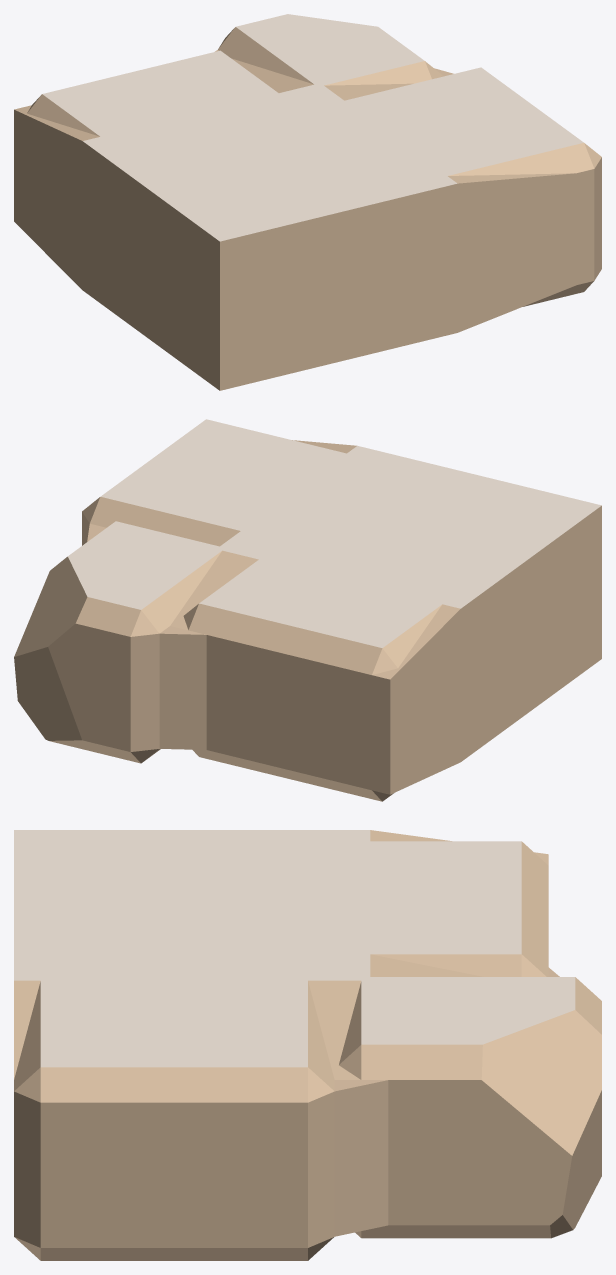
Rendered from Floor_Ruined_Corner_Outer_2.fbx.
The picture shows the model from 3 angles, top to bottom: view 1: azimuth 30°, elevation 25°; view 2: azimuth 150°, elevation 25°; view 3: azimuth 270°, elevation 25°; orthographic projection. The views are drawn at different scales.
Visible parts, largest first — view 1: Sandstone_Trim.object1, Sandstone_Floor; view 2: Sandstone_Trim.object1, Sandstone_Floor; view 3: Sandstone_Trim.object1, Sandstone_Floor.
Part boxes in pixels (x1,y1,x2,y2): Sandstone_Trim.object1: (14, 27, 601, 390); Sandstone_Floor: (42, 14, 583, 241); Sandstone_Trim.object1: (14, 440, 601, 801); Sandstone_Floor: (68, 419, 601, 647); Sandstone_Trim.object1: (14, 830, 601, 1260); Sandstone_Floor: (14, 830, 575, 1067).
Size of the model in its own units: 0.55 by 0.2 by 0.55.
